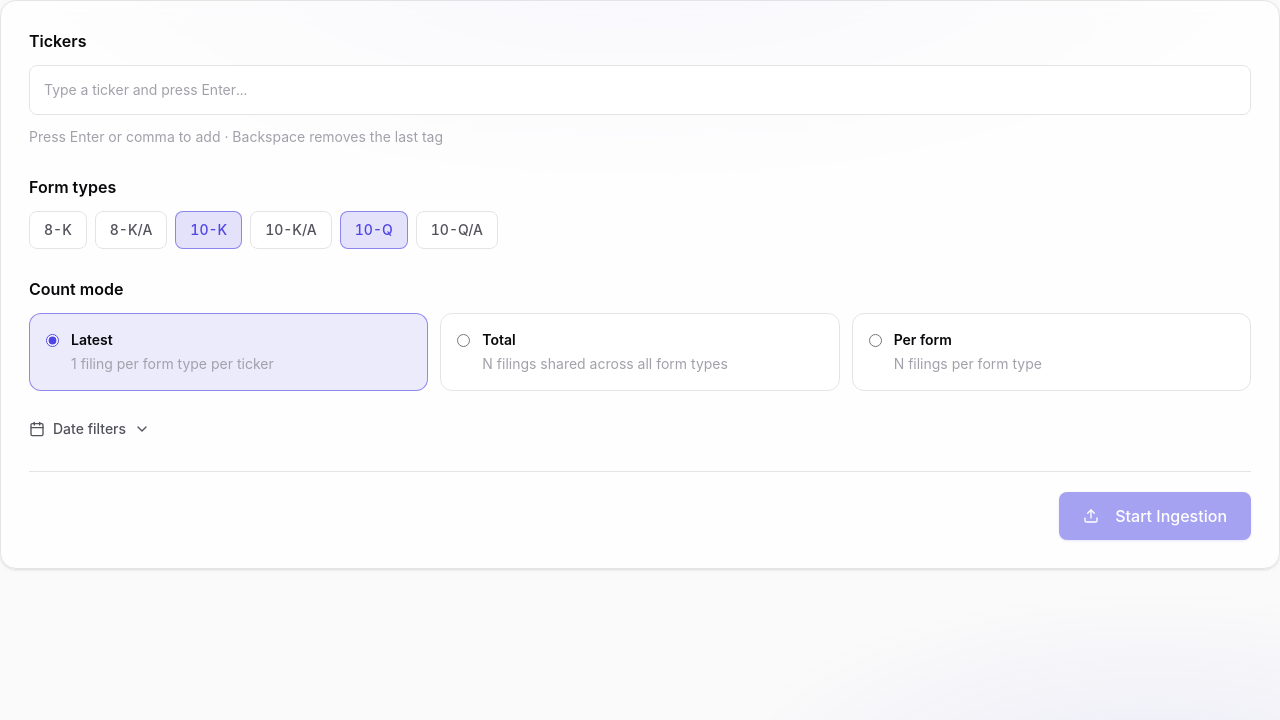
Scenario: IngestForm › hides count mode radio when a start date is entered
The image size is (1280, 720).
Click the button "Date filters": (90, 429) [29, 419, 150, 439]
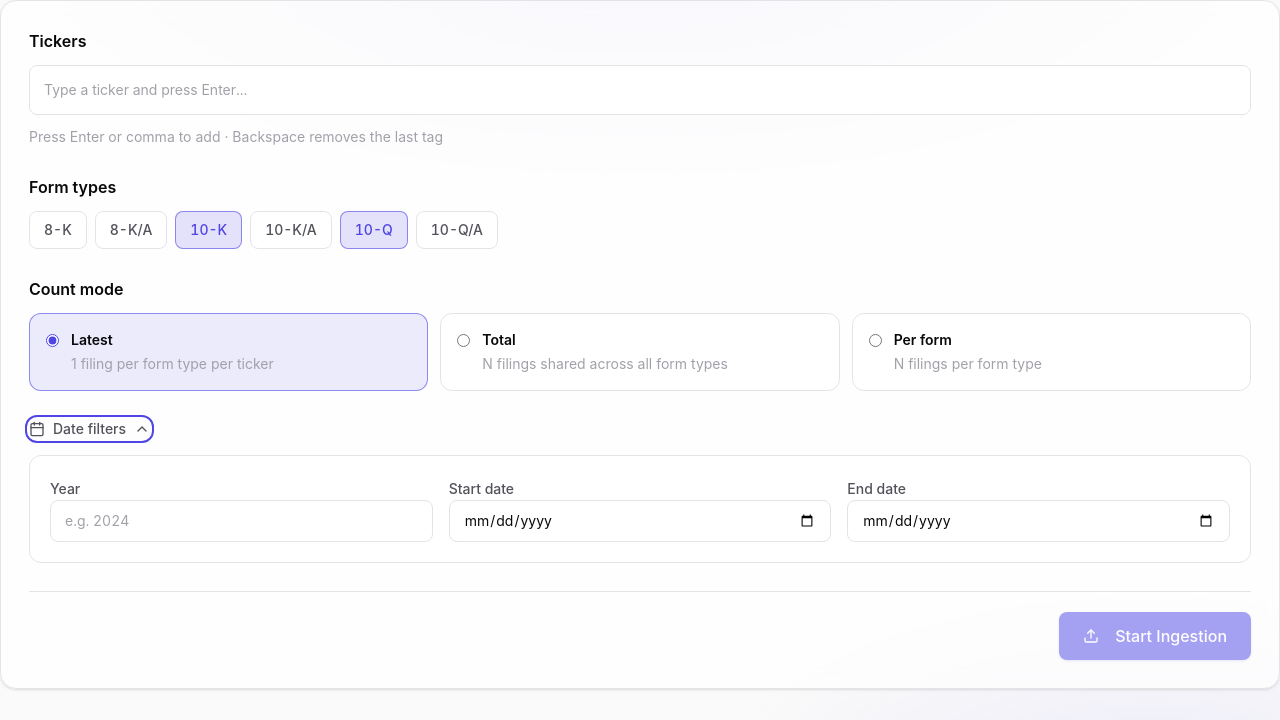
In the date field labelled "Start date": (640, 521) [449, 500, 831, 542], type "2023-01-01"
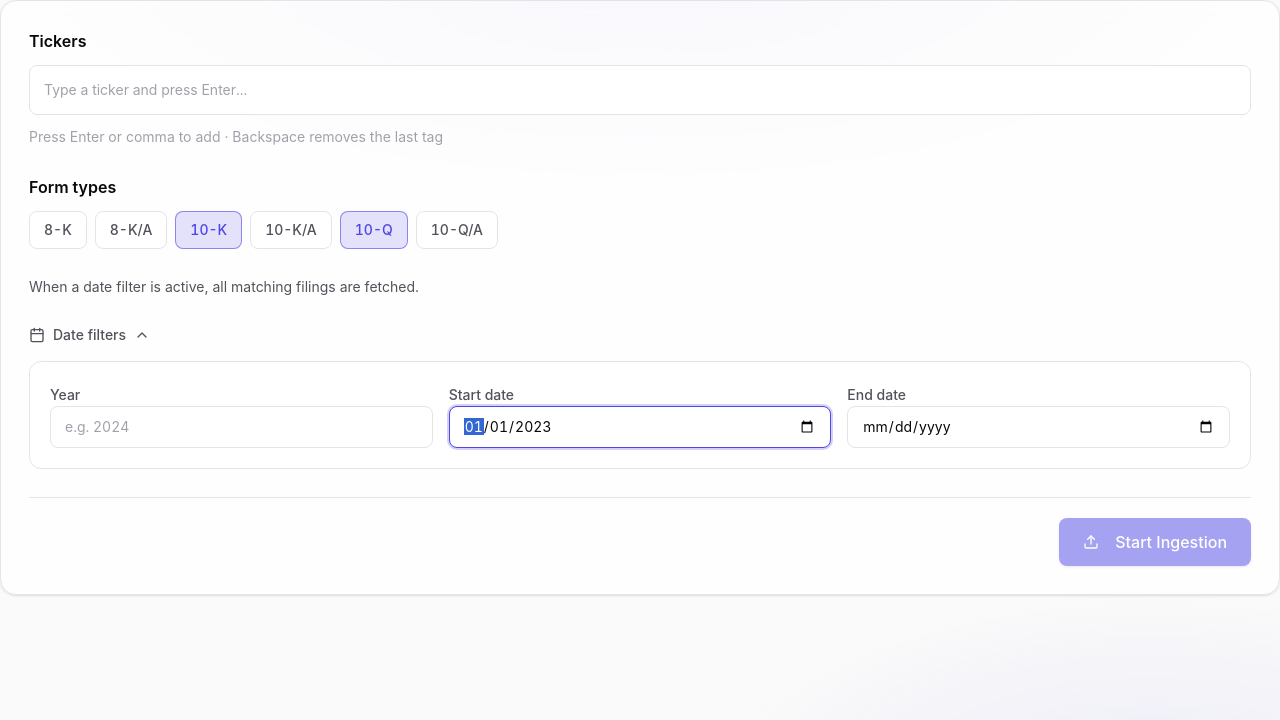
Expected: the text "Count mode" is gone
Expected: the text "When a date filter is active, all matching filings are fetched." is shown, [29, 278, 419, 295]
